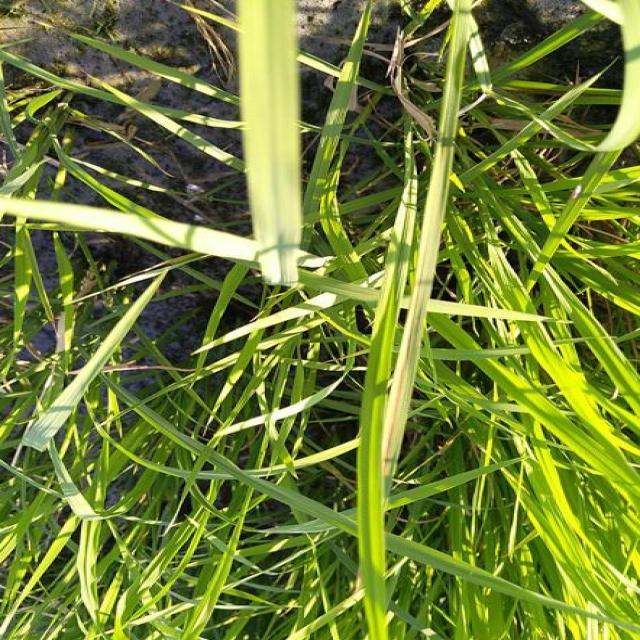Leaf Streak: (378, 132, 445, 474)
